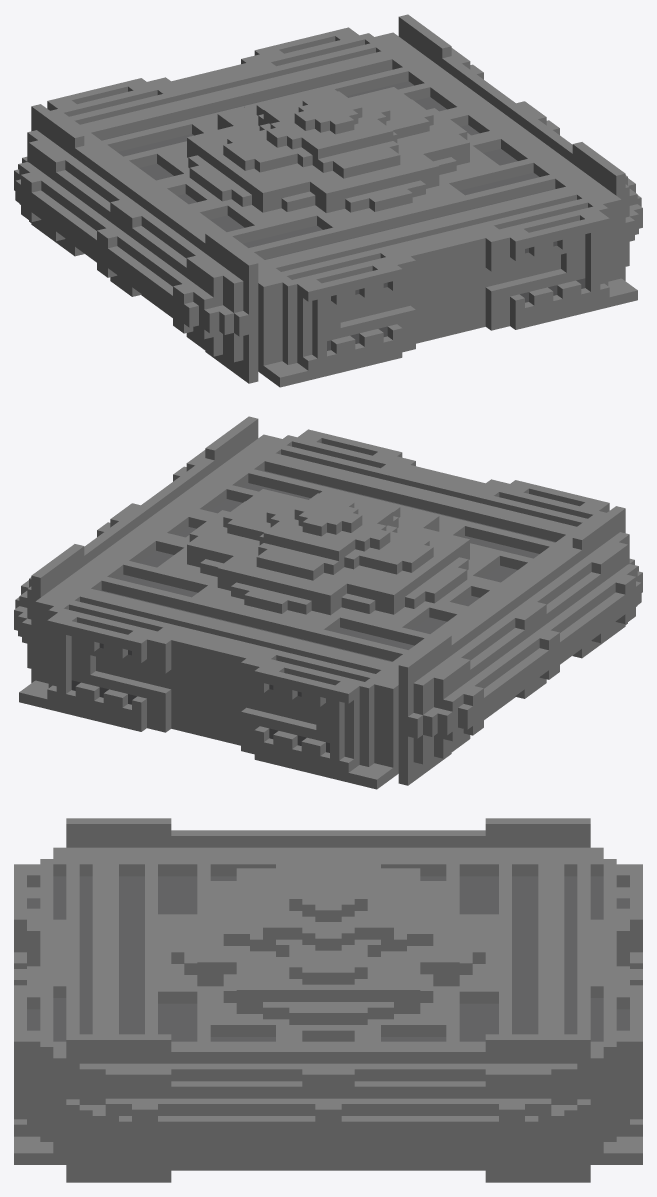
The model's file is alien_saucer3a.obj.
3 renders of one model, top to bottom at view 1: azimuth 30°, elevation 25°; view 2: azimuth 150°, elevation 25°; view 3: azimuth 270°, elevation 25°, orthographic. The views are drawn at different scales.
Size of the model in its own units: 48 by 15 by 48.
